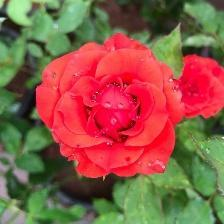rose: (34, 31, 189, 182), (174, 56, 224, 121)
